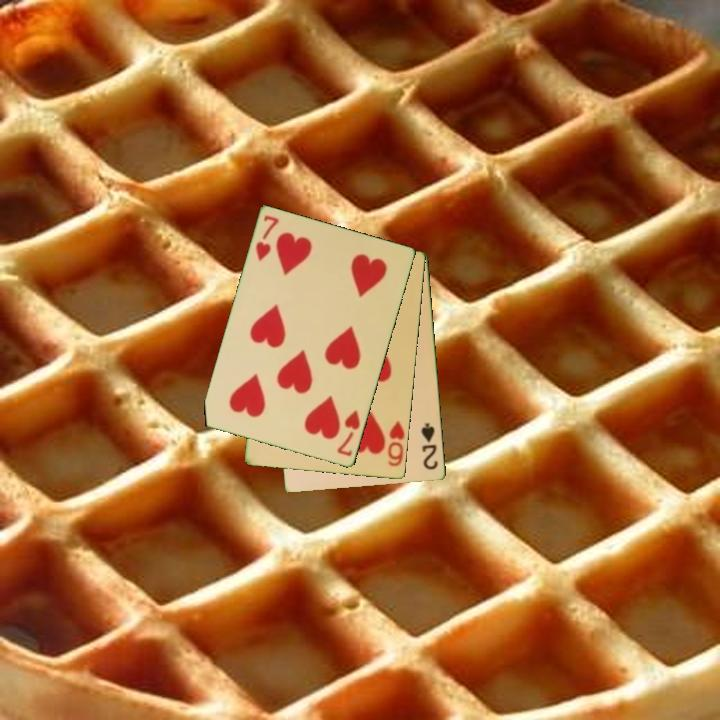2s: (418, 419, 441, 473)
6h: (384, 418, 407, 470)
7h: (252, 212, 282, 264), (334, 407, 363, 460)
